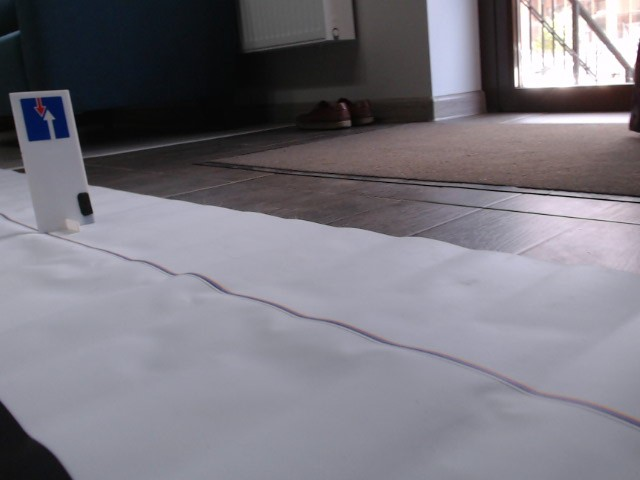priority_movement: (19, 96, 72, 142)
